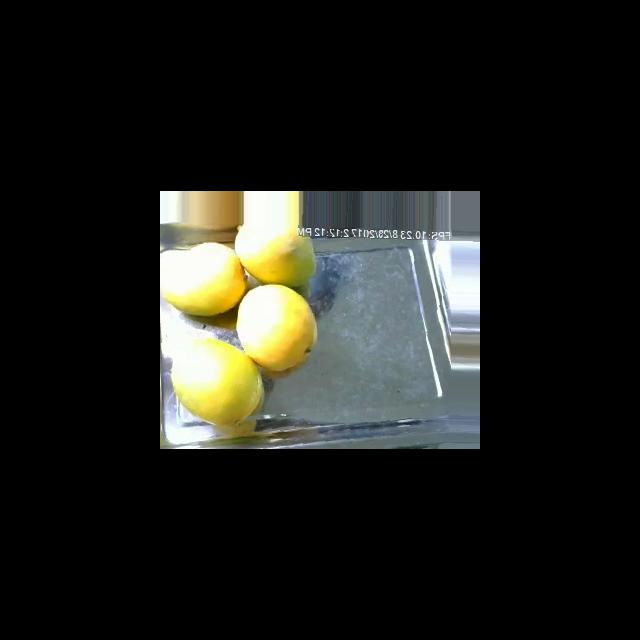Mango: (170, 336, 263, 426), (235, 283, 317, 371), (160, 241, 247, 316), (234, 223, 316, 287)
